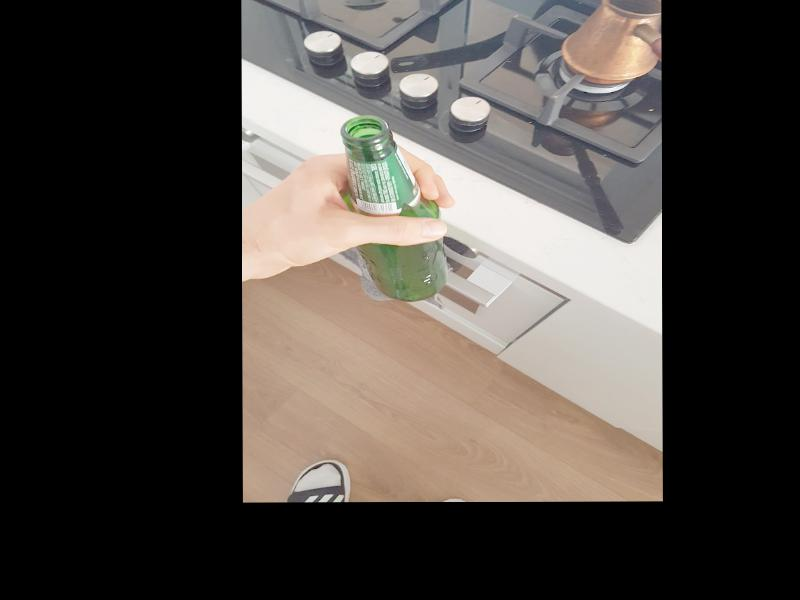Beer: (341, 115, 445, 302)
